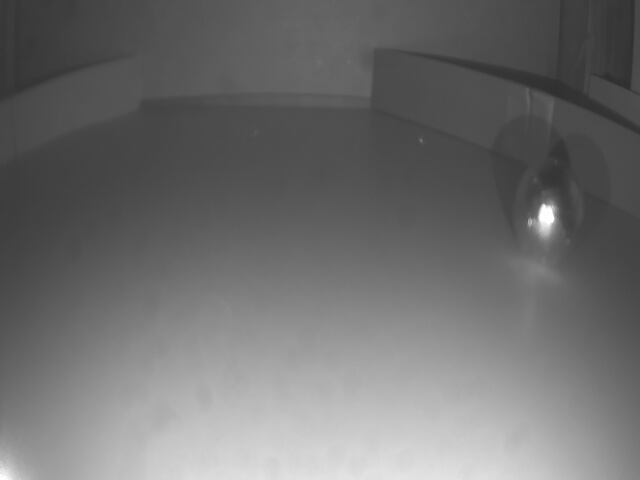Green: (361, 44, 640, 222)
Red: (0, 56, 138, 165)
